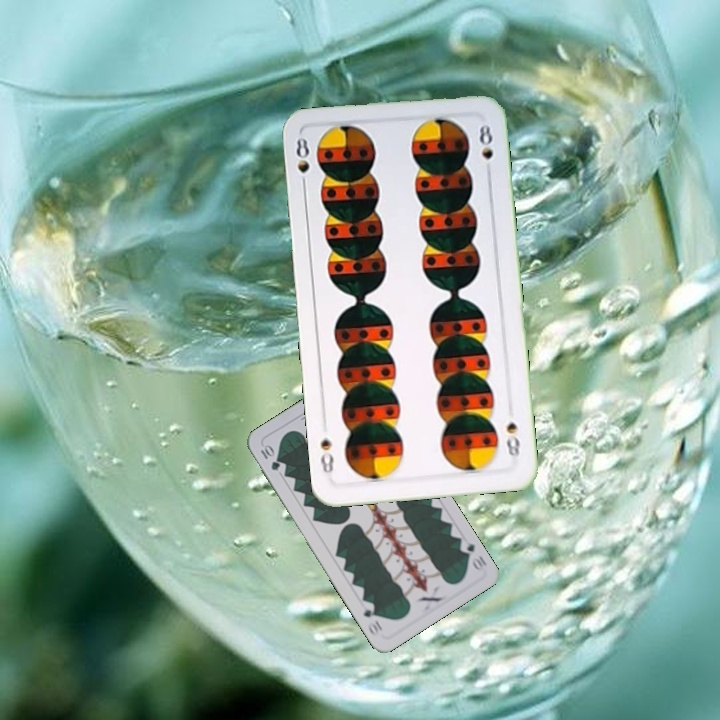G10: (455, 535, 490, 574), (256, 441, 283, 473)
S8: (292, 133, 312, 193), (502, 418, 522, 459)
